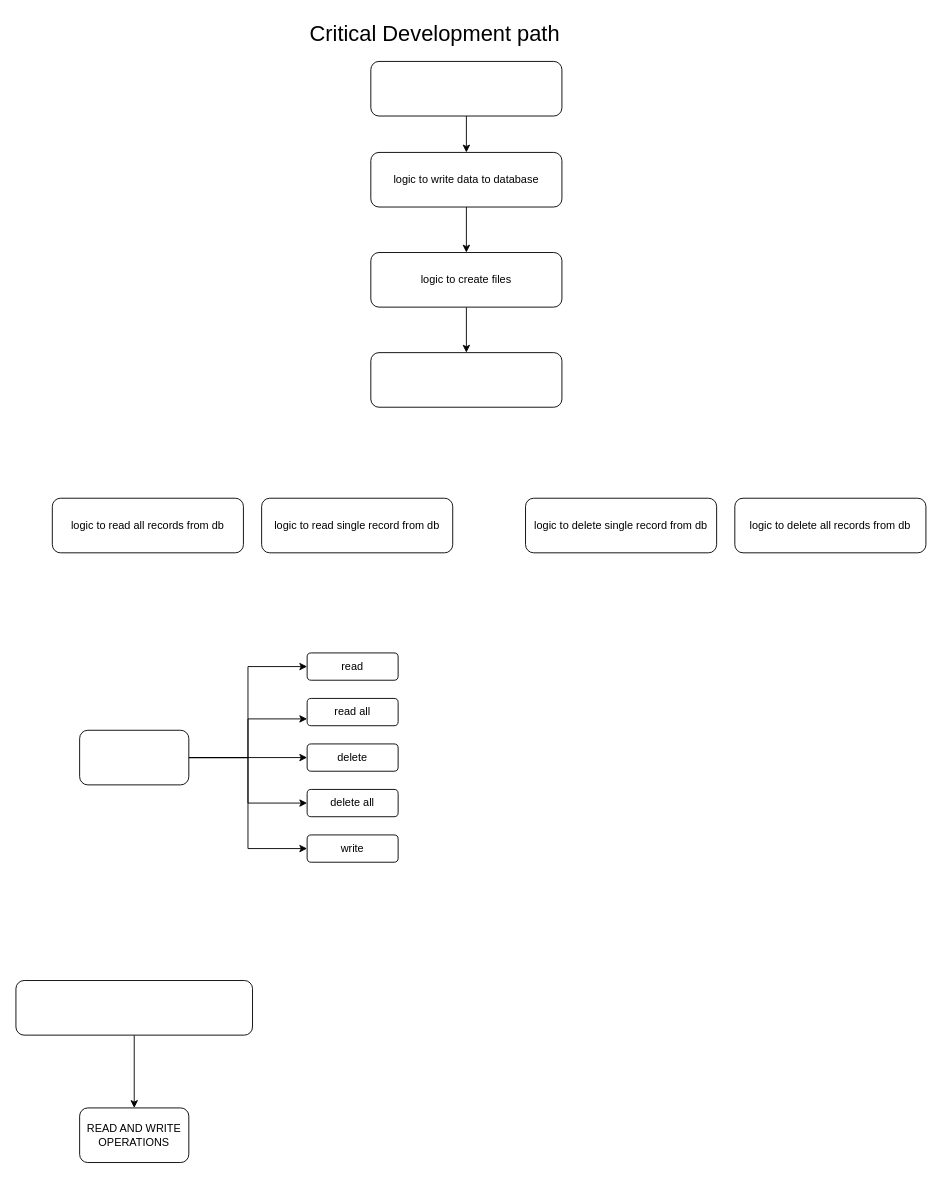
Some shapes in this 942 by 1178 pixel diagram are drawn without their labels. Each missing label, with the centre of its shape:
"driver" belongs at pixel 134 757.
"logic to create data types" belongs at pixel 466 88.
"logic to write into files" belongs at pixel 466 379.
"Maintaining data integrity" belongs at pixel 134 1007.
